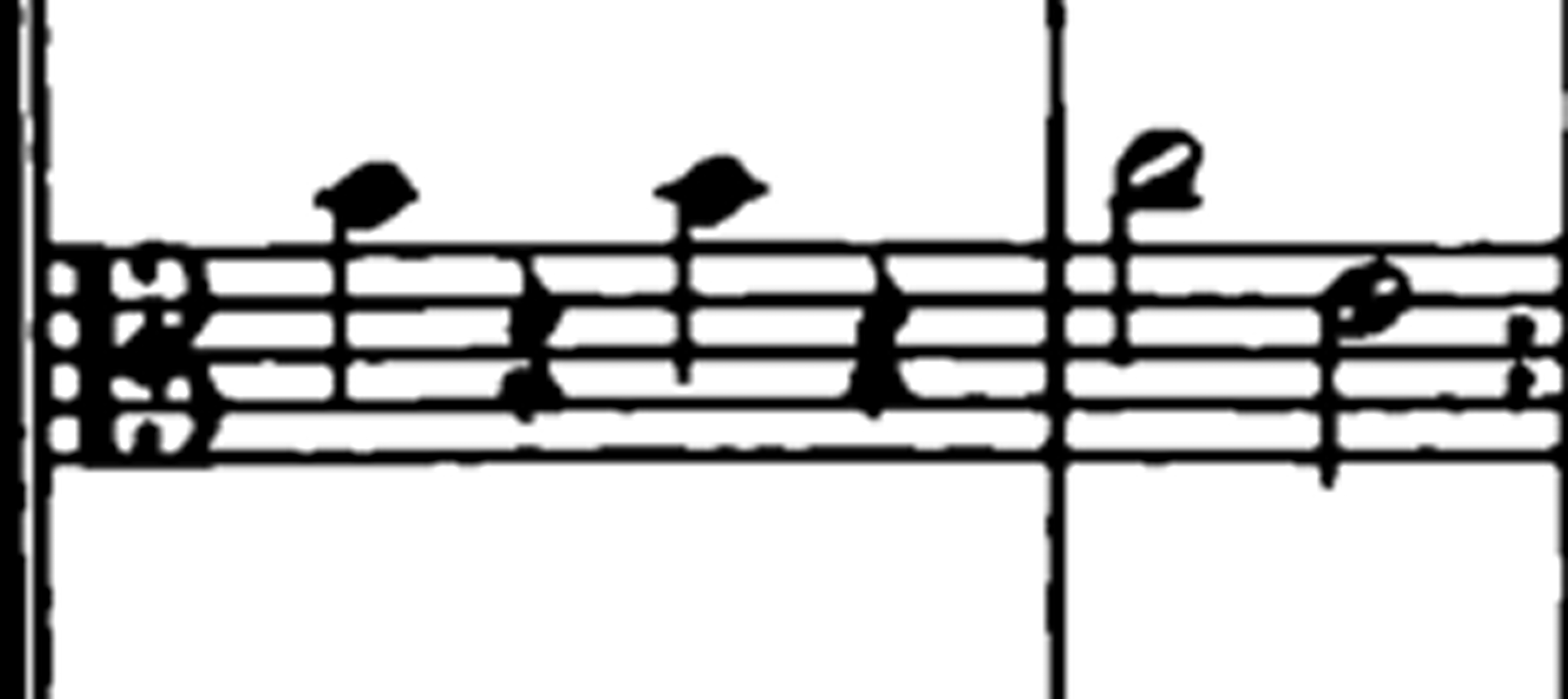clefCAlto: (62, 213, 253, 491)
